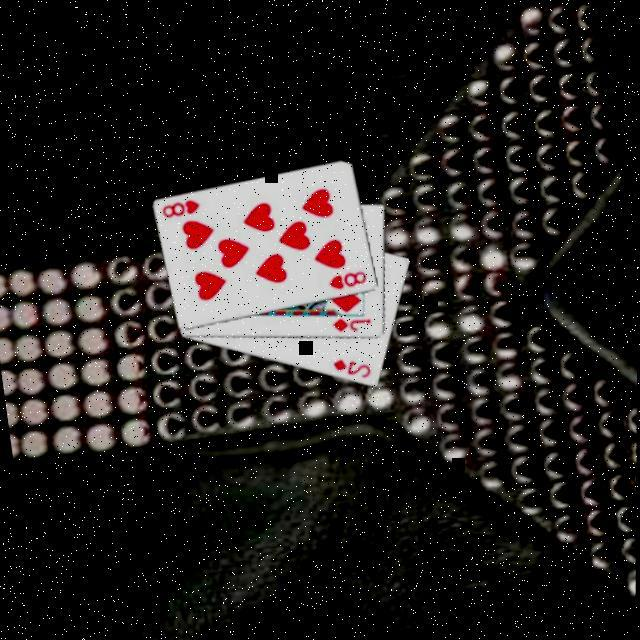2D: (332, 352, 377, 385)
8H: (327, 267, 372, 293), (161, 196, 206, 222)
JD: (331, 311, 377, 337)
